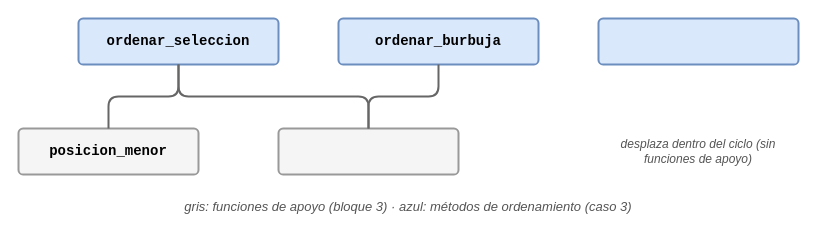
This 816x236 diagram has some shape labels left out. Here are the shapes that lost their labels. From the top down, the box of each, then its label:
(597, 17, 799, 65): ordenar_insercion
(277, 127, 459, 175): intercambiar
